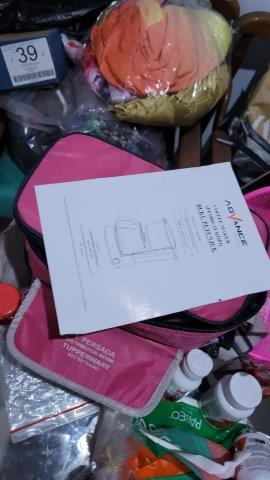kertas: (36, 160, 270, 336)
